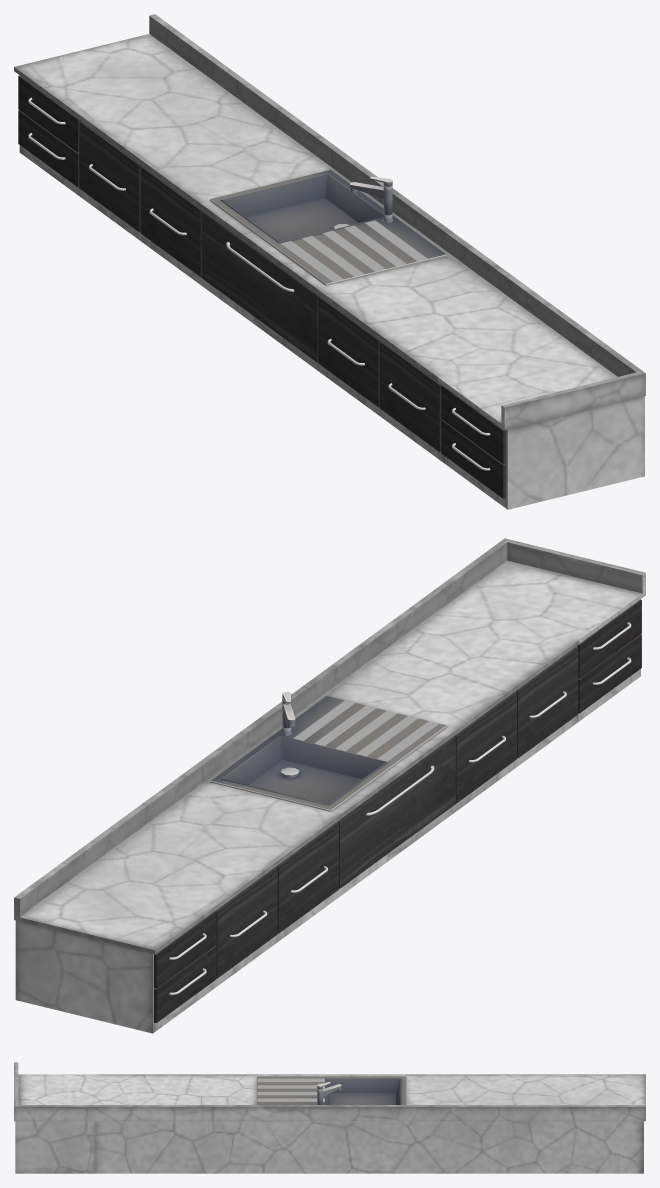
Rendered from M_kabinetWastafelPisah.fbx.
3 renders of one model, top to bottom at view 1: azimuth 30°, elevation 25°; view 2: azimuth 150°, elevation 25°; view 3: azimuth 270°, elevation 25°, orthographic. The views are drawn at different scales.
Parts seen in each view (by area): view 1: rak; view 2: rak; view 3: rak.
Part boxes in pixels (x1,y1,x2,y2): rak: (14, 14, 645, 509); rak: (14, 538, 645, 1033); rak: (14, 1062, 645, 1173).
Size of the model in its own units: 86.21 by 72.07 by 503.
